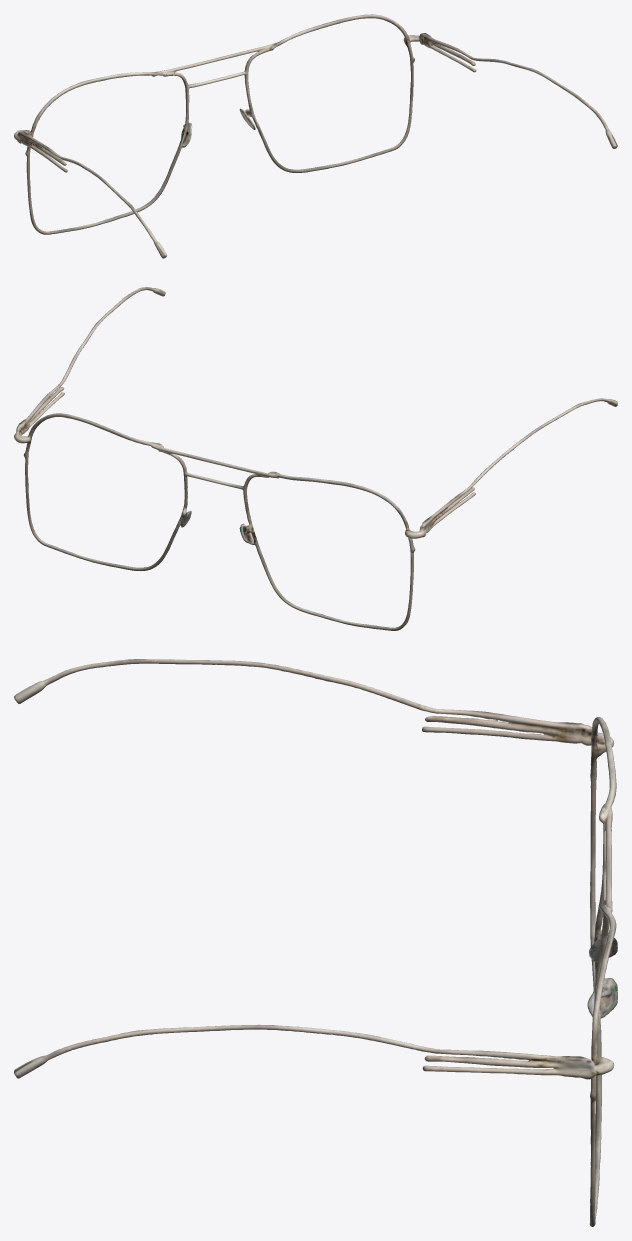
The model's file is glasses3.glb.
3 views of the same model, one above another, from view 1: azimuth 30°, elevation 25°; view 2: azimuth 150°, elevation 25°; view 3: azimuth 270°, elevation 25° (orthographic). The views are drawn at different scales.
Bounding box in the file's own units: 2 × 0.6037 × 1.35.
1 material, 1 textured.
